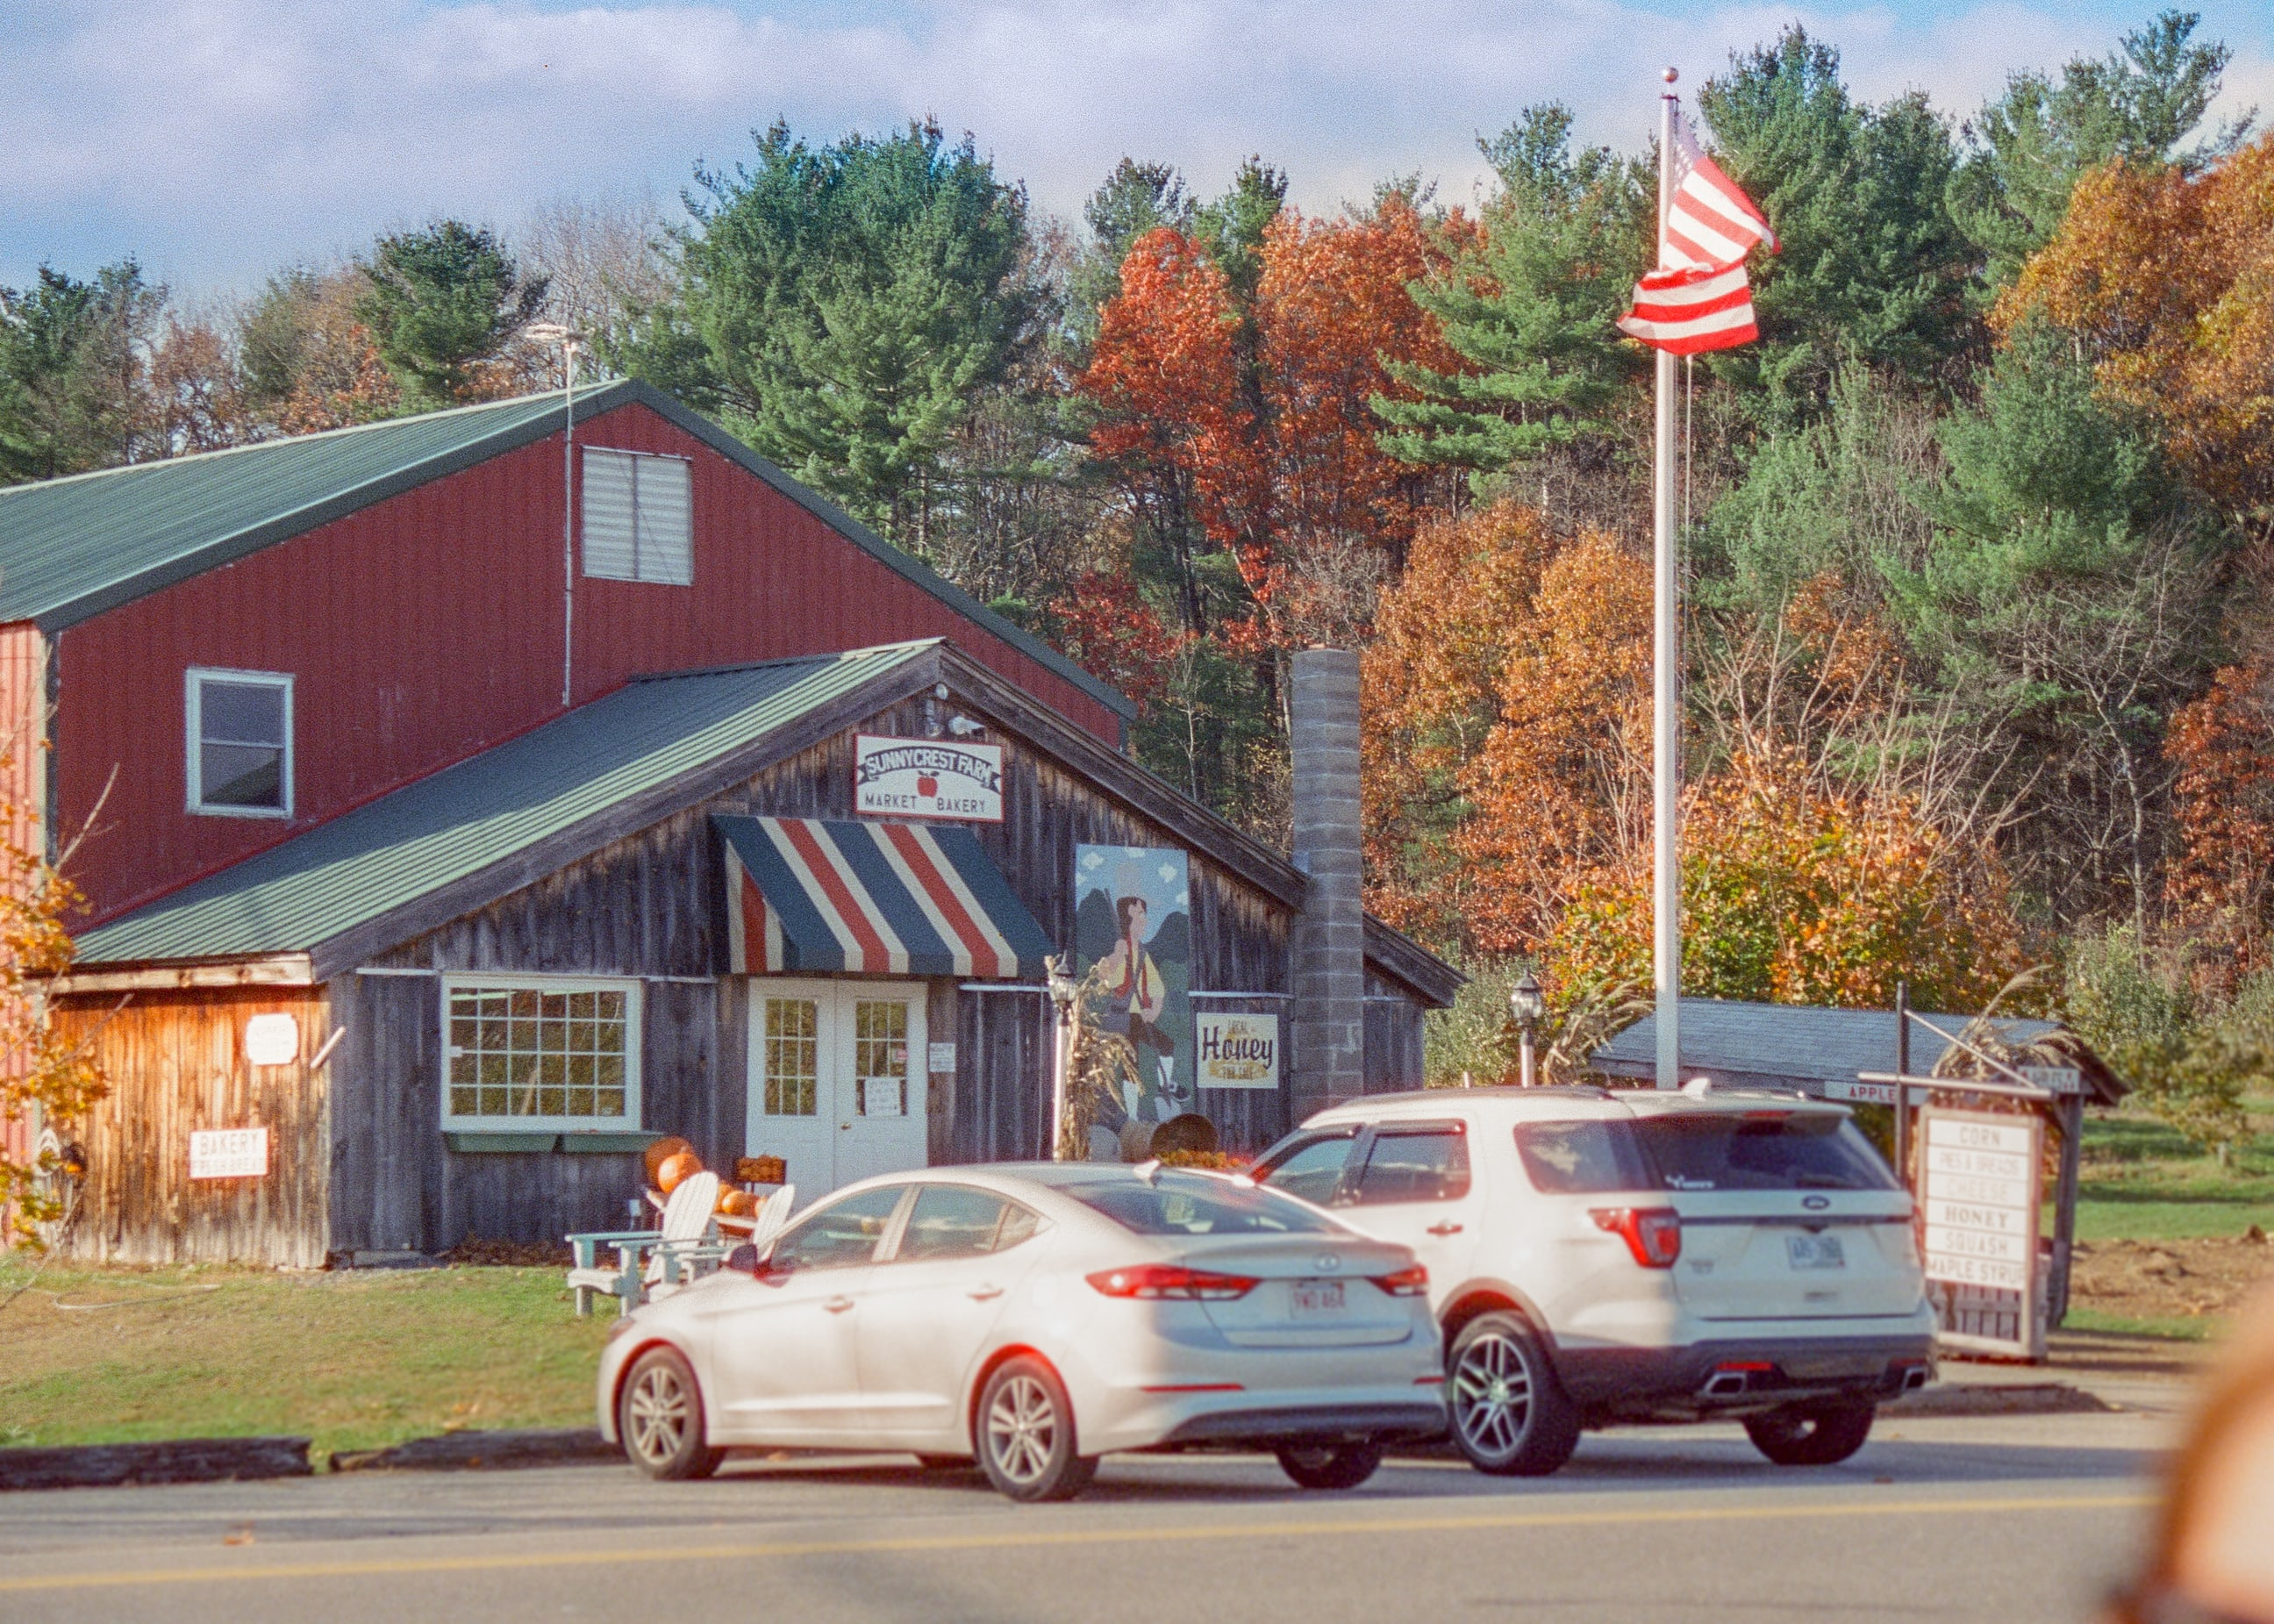Flag: (1627, 98, 1768, 357)
